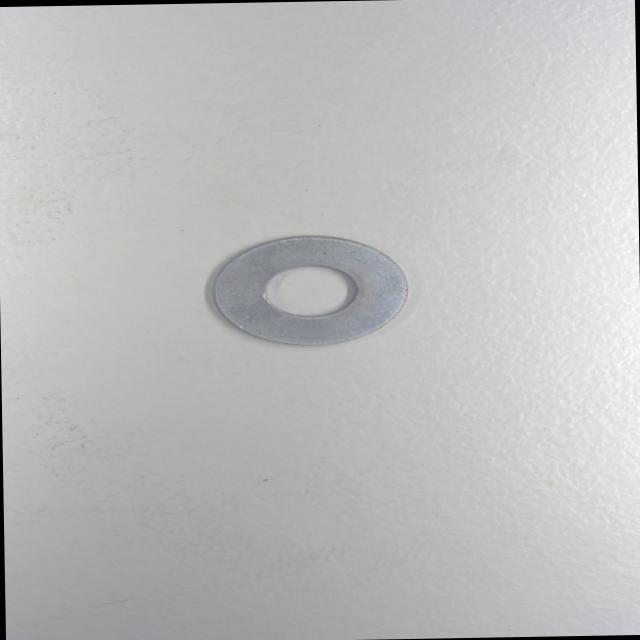washer: (209, 234, 411, 348)
